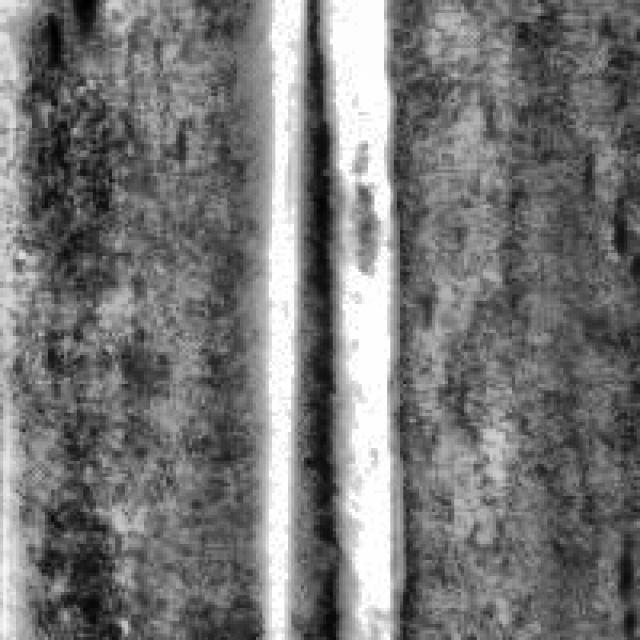Inclusion: (291, 0, 403, 634), (256, 0, 307, 630)
